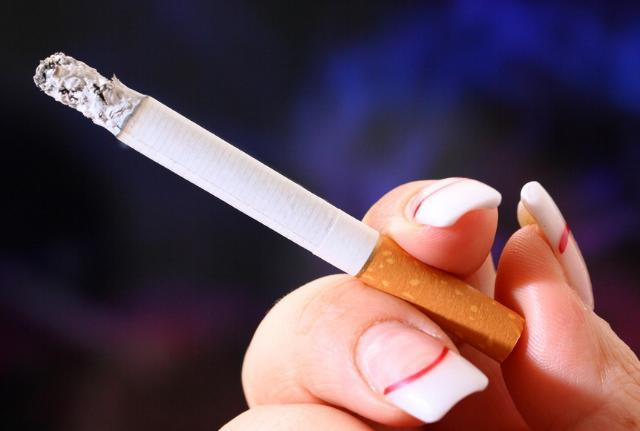Smoking: (32, 49, 528, 366)
